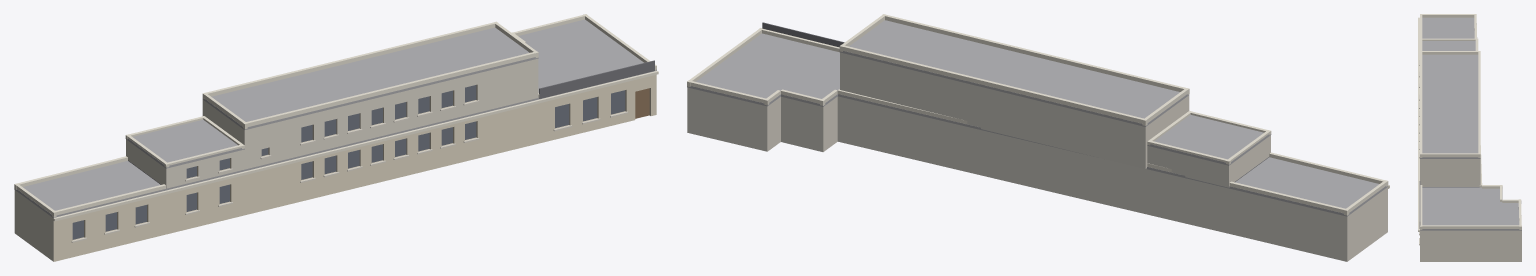
3 views of the same model, side by side, from view 1: azimuth 30°, elevation 25°; view 2: azimuth 150°, elevation 25°; view 3: azimuth 270°, elevation 25° (orthographic). The views are drawn at different scales.
Parts seen in each view (by area): view 1: CP_110_Masonry, CP_110_Vol_hall_Masonry, CP_110_WingRoof_vol_hall, CP_110_Roof, CP_110_WingRoof_vol_annex, CP_110_Cornice_main_gf_0, CP_110_Vol_annex_Masonry, CP_110_Parapet_vol_hall_0, CP_110_Parapet_vol_hall_2, CP_110_Terrace_rail, CP_110_Parapet_0, CP_110_Parapet_7 (+2 smaller); view 2: CP_110_Masonry, CP_110_Vol_hall_Masonry, CP_110_WingRoof_vol_hall, CP_110_Roof, CP_110_WingRoof_vol_annex, CP_110_Vol_annex_Masonry, CP_110_Parapet_vol_hall_2, CP_110_Parapet_vol_hall_0, CP_110_Parapet_0, CP_110_Parapet_6, CP_110_Parapet_7, CP_110_Terrace_rail (+2 smaller); view 3: CP_110_WingRoof_vol_hall, CP_110_Roof, CP_110_Masonry, CP_110_Vol_hall_Masonry, CP_110_WingRoof_vol_annex, CP_110_Parapet_1, CP_110_Cornice_main_gf_0, CP_110_Parapet_vol_hall_0, CP_110_Parapet_vol_hall_2, CP_110_Parapet_vol_hall_1, CP_110_Parapet_vol_hall_3, CP_110_Parapet_8 (+8 smaller).
Part boxes in pixels (x1=…): CP_110_Masonry: x1=14, y1=74, x2=656, y2=261; CP_110_Vol_hall_Masonry: x1=202, y1=58, x2=538, y2=169; CP_110_WingRoof_vol_hall: x1=202, y1=27, x2=538, y2=129; CP_110_Roof: x1=14, y1=19, x2=656, y2=217; CP_110_WingRoof_vol_annex: x1=125, y1=120, x2=244, y2=168; CP_110_Cornice_main_gf_0: x1=53, y1=71, x2=658, y2=221; CP_110_Vol_annex_Masonry: x1=126, y1=139, x2=244, y2=188; CP_110_Parapet_vol_hall_0: x1=243, y1=51, x2=538, y2=128; CP_110_Parapet_vol_hall_2: x1=202, y1=22, x2=497, y2=99; CP_110_Terrace_rail: x1=539, y1=60, x2=654, y2=98; CP_110_Parapet_0: x1=52, y1=64, x2=656, y2=216; CP_110_Parapet_7: x1=14, y1=160, x2=111, y2=189; CP_110_Masonry: x1=687, y1=87, x2=1387, y2=261; CP_110_Vol_hall_Masonry: x1=840, y1=52, x2=1189, y2=168; CP_110_WingRoof_vol_hall: x1=839, y1=20, x2=1189, y2=126; CP_110_Roof: x1=687, y1=33, x2=1387, y2=216; CP_110_WingRoof_vol_annex: x1=1147, y1=114, x2=1271, y2=165; CP_110_Vol_annex_Masonry: x1=1147, y1=135, x2=1270, y2=187; CP_110_Parapet_vol_hall_2: x1=839, y1=45, x2=1147, y2=125; CP_110_Parapet_vol_hall_0: x1=882, y1=14, x2=1189, y2=94; CP_110_Parapet_0: x1=759, y1=28, x2=1388, y2=186; CP_110_Parapet_6: x1=837, y1=89, x2=1248, y2=190; CP_110_Parapet_7: x1=1246, y1=185, x2=1349, y2=215; CP_110_Terrace_rail: x1=762, y1=22, x2=844, y2=47; CP_110_WingRoof_vol_hall: x1=1420, y1=54, x2=1480, y2=158; CP_110_Roof: x1=1420, y1=17, x2=1521, y2=230; CP_110_Masonry: x1=1420, y1=230, x2=1521, y2=261; CP_110_Vol_hall_Masonry: x1=1420, y1=159, x2=1480, y2=186; CP_110_WingRoof_vol_annex: x1=1422, y1=41, x2=1475, y2=50; CP_110_Parapet_1: x1=1420, y1=225, x2=1521, y2=228; CP_110_Cornice_main_gf_0: x1=1418, y1=17, x2=1420, y2=231; CP_110_Parapet_vol_hall_0: x1=1420, y1=51, x2=1422, y2=157; CP_110_Parapet_vol_hall_2: x1=1478, y1=51, x2=1480, y2=157; CP_110_Parapet_vol_hall_1: x1=1420, y1=153, x2=1480, y2=157; CP_110_Parapet_vol_hall_3: x1=1422, y1=51, x2=1478, y2=54; CP_110_Parapet_8: x1=1422, y1=14, x2=1476, y2=17.
Bounding box in the file's own units: 62.3 × 9 × 12.87.
